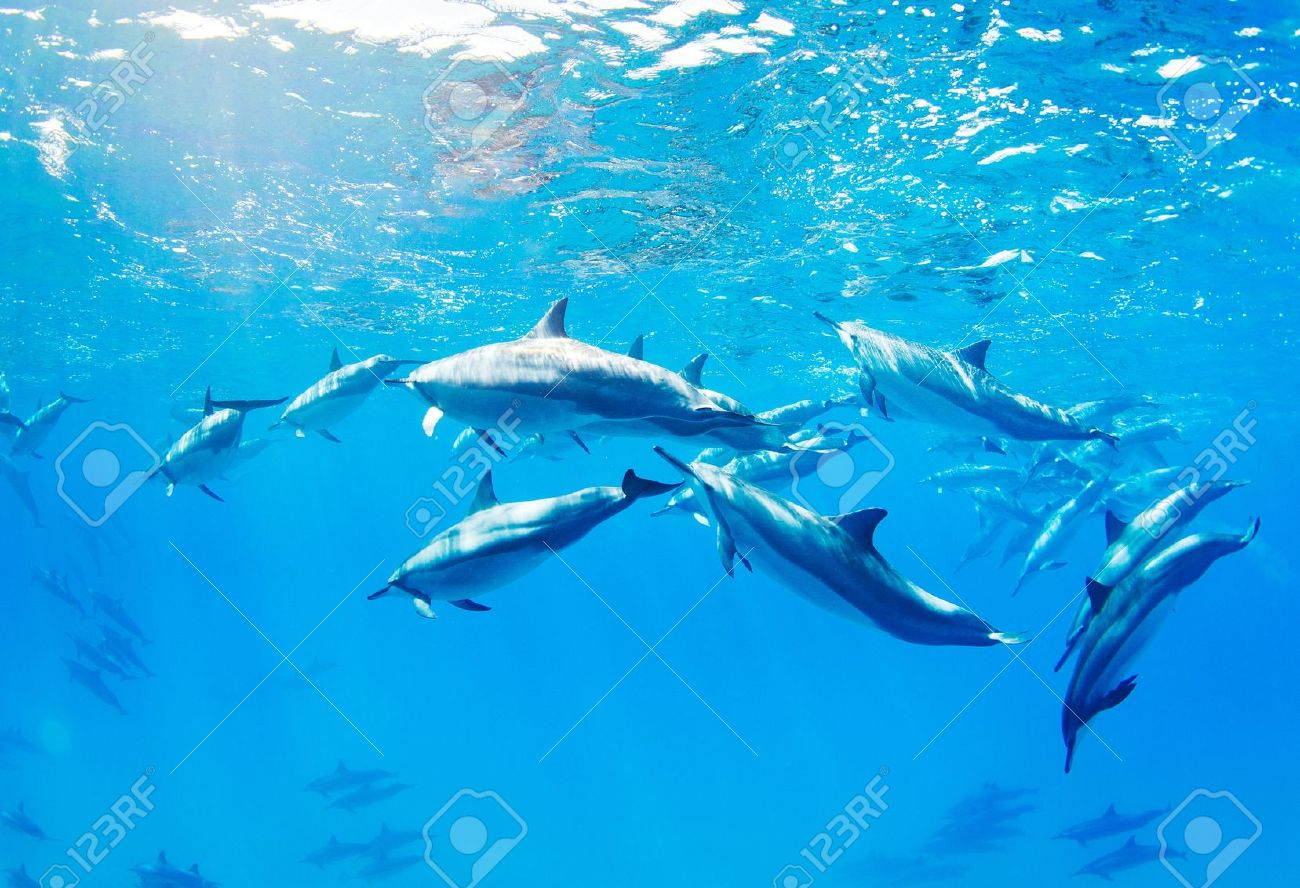dolphin: (640, 434, 1037, 669), (1027, 475, 1279, 788), (389, 288, 791, 466), (341, 467, 715, 628), (804, 287, 1125, 460), (252, 329, 419, 456), (150, 386, 282, 520)
